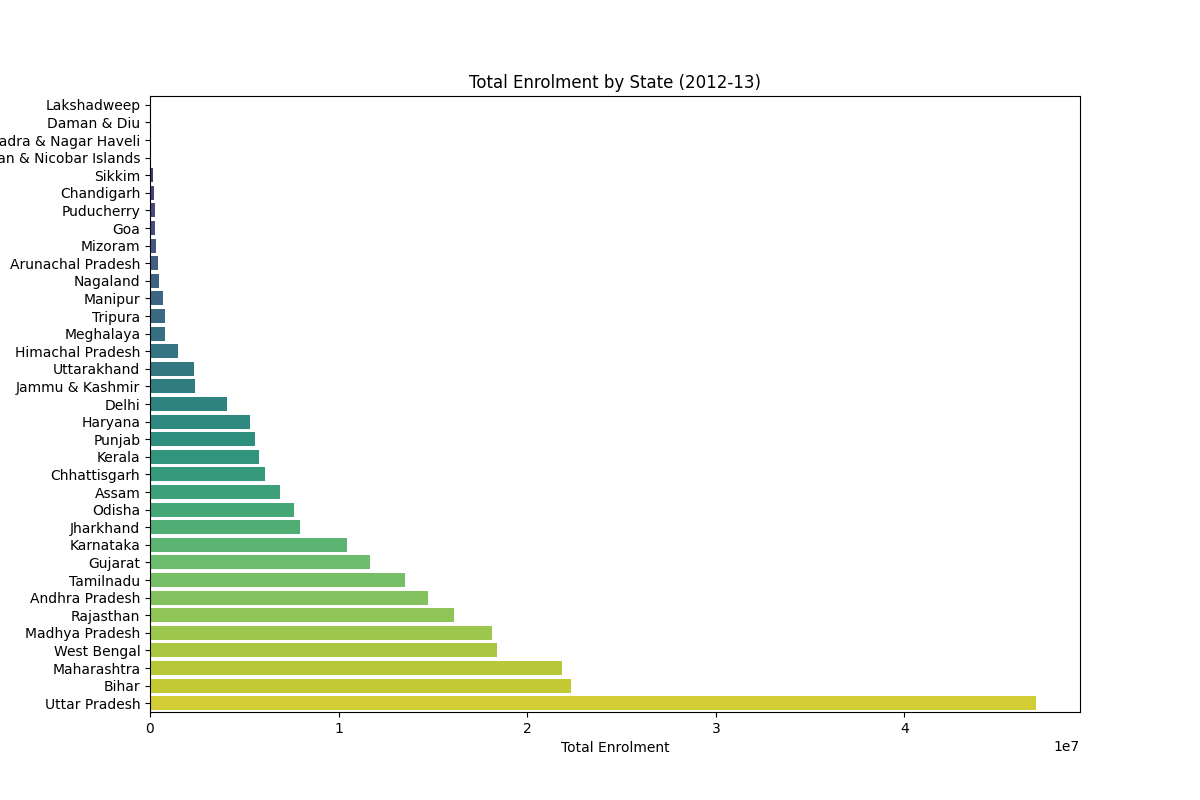

Layout of this report page (visuals, bound fields, positions):
{"tool":"tableau","page":{"name":"Dashboard 1","canvas":[1000,1000],"units":"permille","ordinal":0},"visuals":[{"type":"worksheet","title":"Sheet 2","mark":"Bar","rows":["count"],"cols":["date","date"],"box":[1.8,480.7,991,499.4]}]}

Visuals, with their boxes on the dashboard's canvas, which has no fixed pixel size, in thousandths of its width and height (x1, y1, x2, y2). These are canvas units, not pixel positions in the 1200x800 screenshot, which may show the page scaled, cropped or inside an application window:
"Sheet 2" worksheet (Bar marks): pyautogui.locateOnScreen(2, 481, 993, 980)
